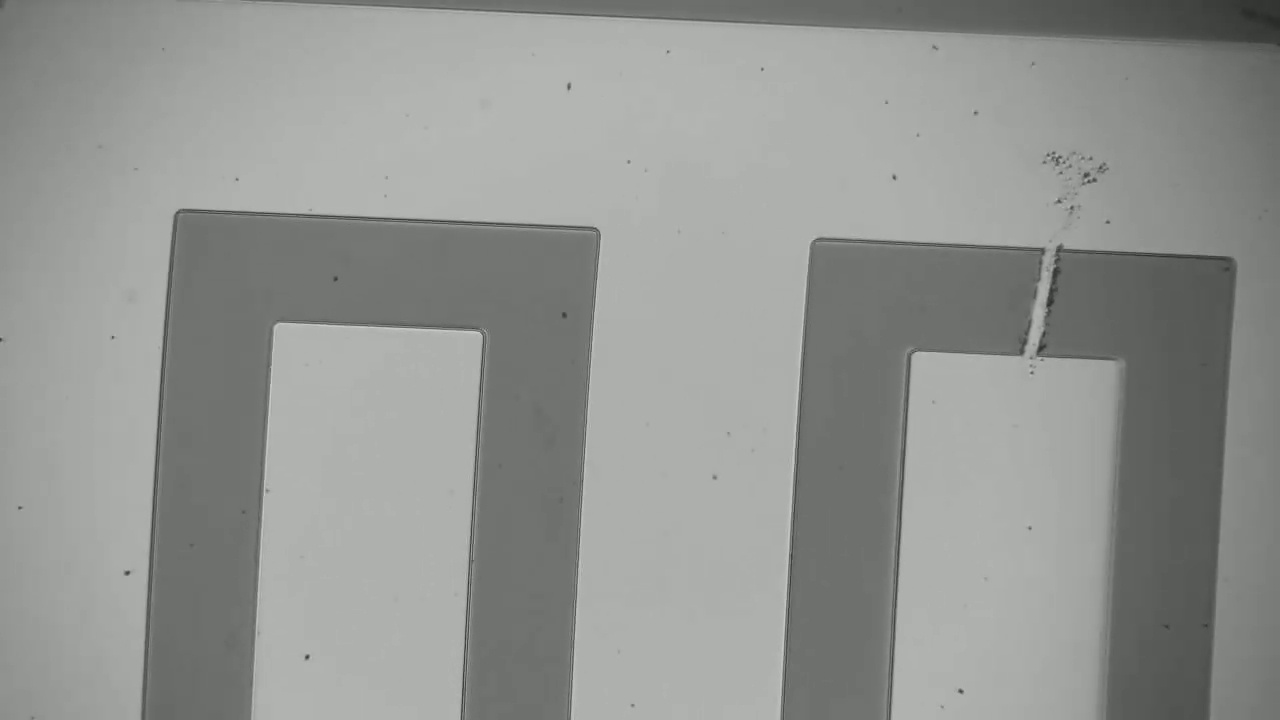Short_circuit: (1000, 226, 1077, 371)
